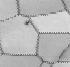good_void: (23, 19, 32, 26)
